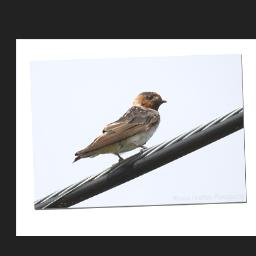Swallow: (67, 89, 170, 168)
